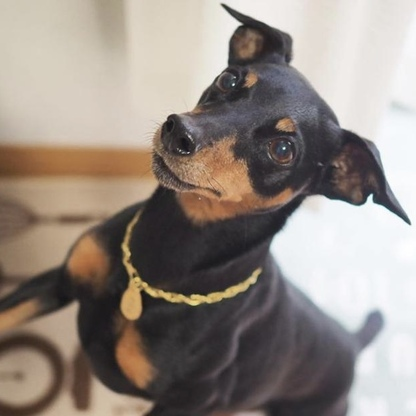doberman: (36, 2, 416, 415)
